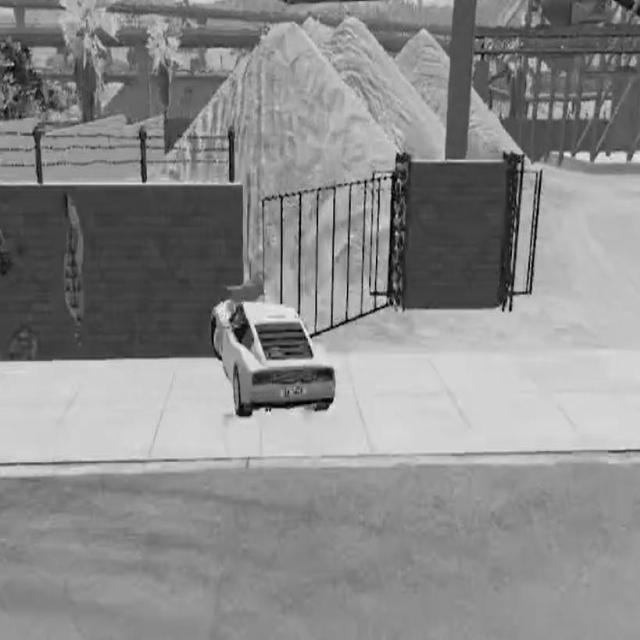accident: (206, 269, 339, 426)
